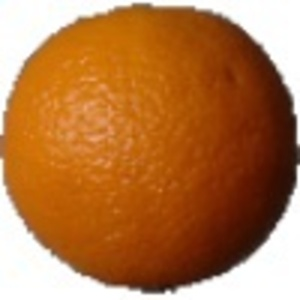laranja: (1, 2, 300, 291)
